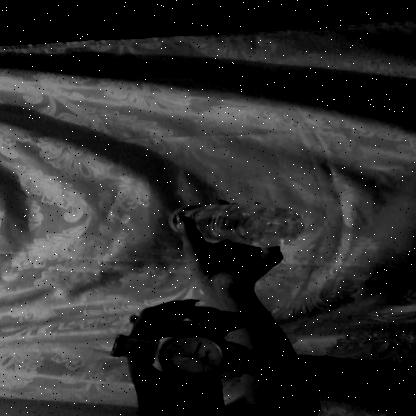Plastic Bottle: (131, 182, 338, 256)
